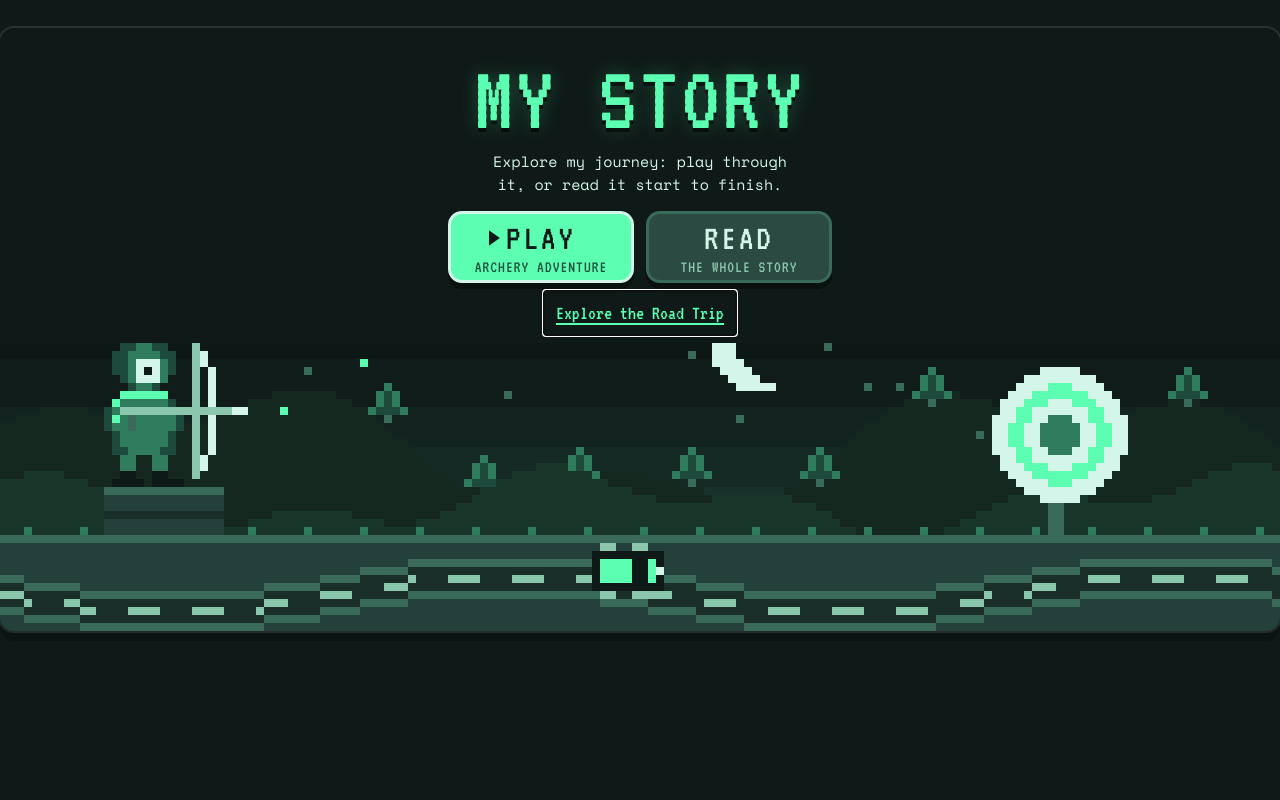
Scenario: opening it › Explore the Road Trip opens a modal dialog and focuses its title; nothing loads before that
Click the button "Explore the Road Trip" at [640, 313], box [544,291,736,335]
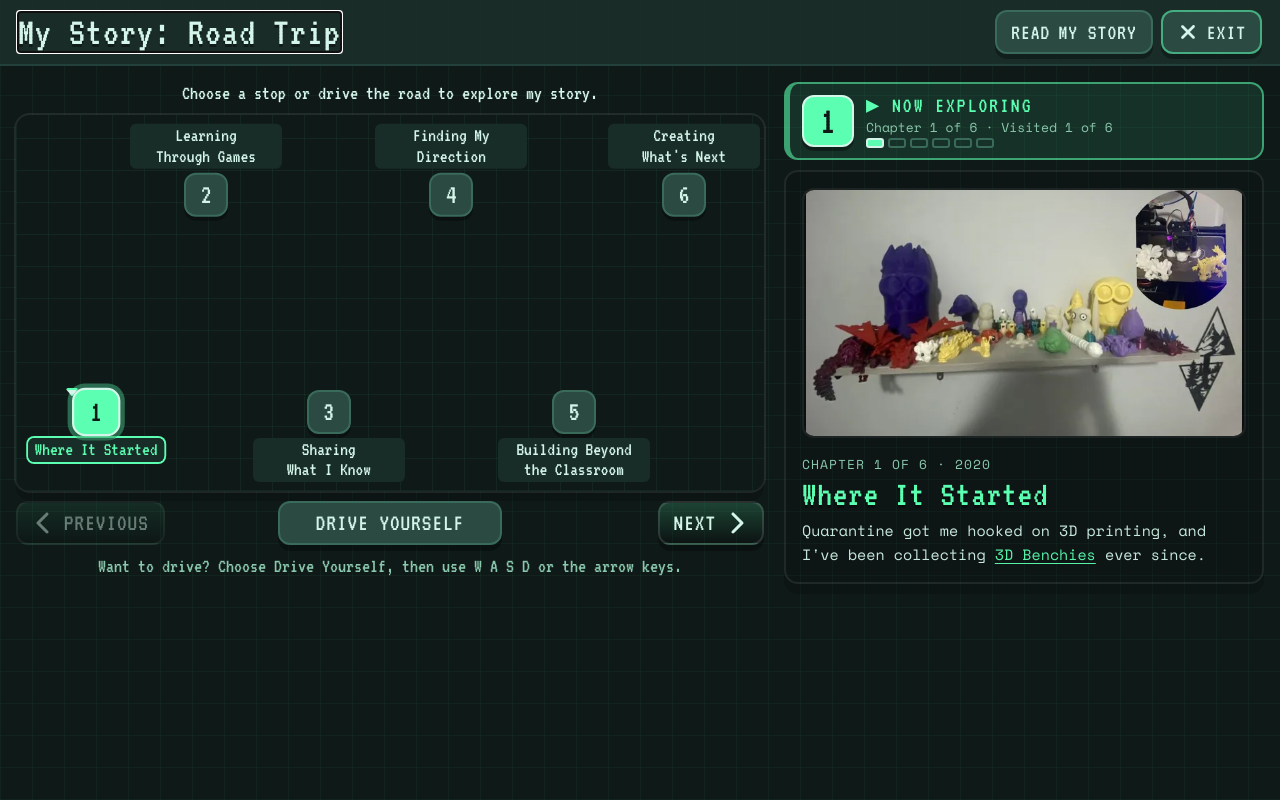
Now the dialog "My Story: Road Trip" is shown
